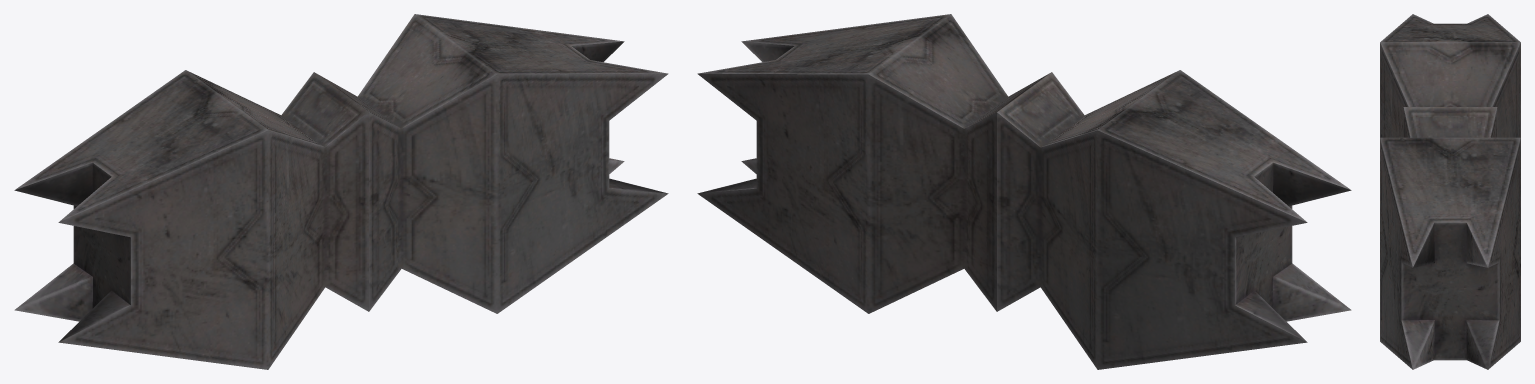
The model's file is sm_dwarf_iron_hammer_blade_c.fbx.
3 renders of one model, left to right at view 1: azimuth 30°, elevation 25°; view 2: azimuth 150°, elevation 25°; view 3: azimuth 270°, elevation 25°, orthographic. The views are drawn at different scales.
Parts seen in each view (by area): view 1: sm_dwarf_iron_hammer_blade_c; view 2: sm_dwarf_iron_hammer_blade_c; view 3: sm_dwarf_iron_hammer_blade_c.
Boxes of the visible parts, <box> form: sm_dwarf_iron_hammer_blade_c: <box>14,14,668,369</box>; sm_dwarf_iron_hammer_blade_c: <box>697,14,1351,369</box>; sm_dwarf_iron_hammer_blade_c: <box>1380,14,1520,369</box>.
Size of the model in its own units: 0.64 by 0.15 by 0.24.
1 material, 1 textured.
